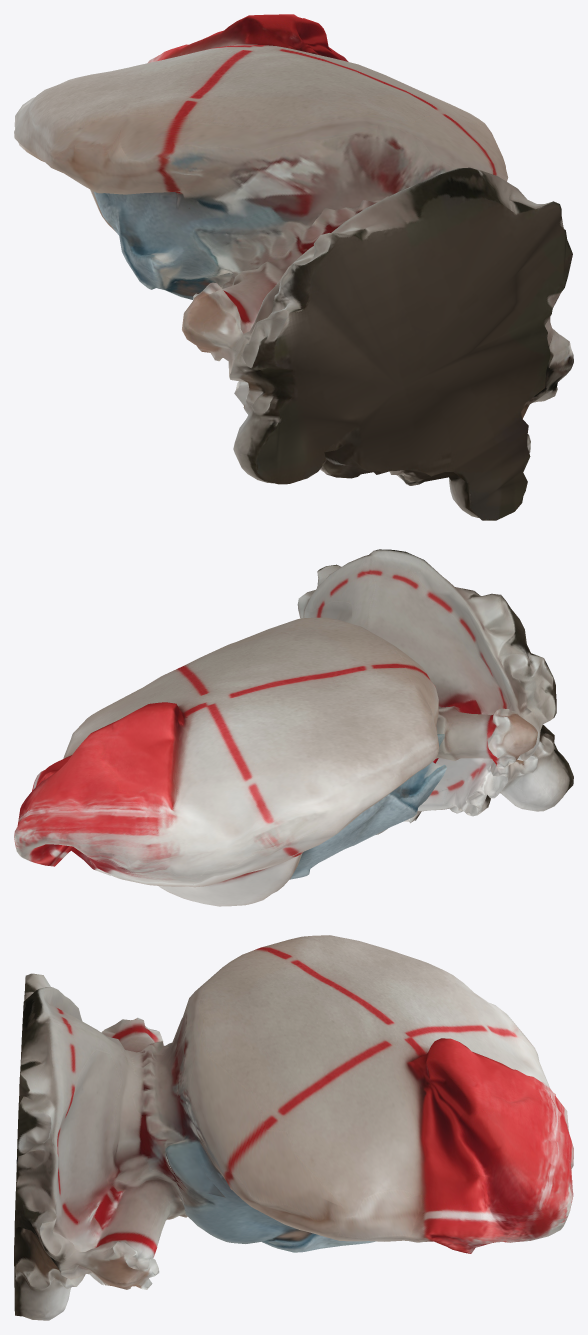
Rendered from Boogoo.glb.
3 renders of one model, top to bottom at view 1: azimuth 30°, elevation 25°; view 2: azimuth 150°, elevation 25°; view 3: azimuth 270°, elevation 25°, orthographic. The views are drawn at different scales.
Visible parts, largest first — view 1: Object_2; view 2: Object_2; view 3: Object_2.
Part boxes in pixels (x1,y1,x2,y2): Object_2: [14, 14, 573, 520]; Object_2: [14, 549, 573, 906]; Object_2: [14, 935, 573, 1320].
Bounding box in the file's own units: 14.68 × 11.24 × 18.77.
1 material, 1 textured.
